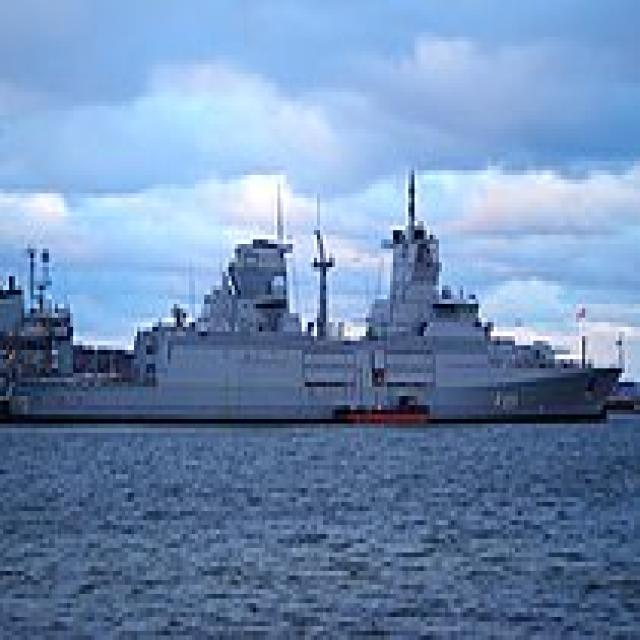Warship: (0, 157, 622, 419)
